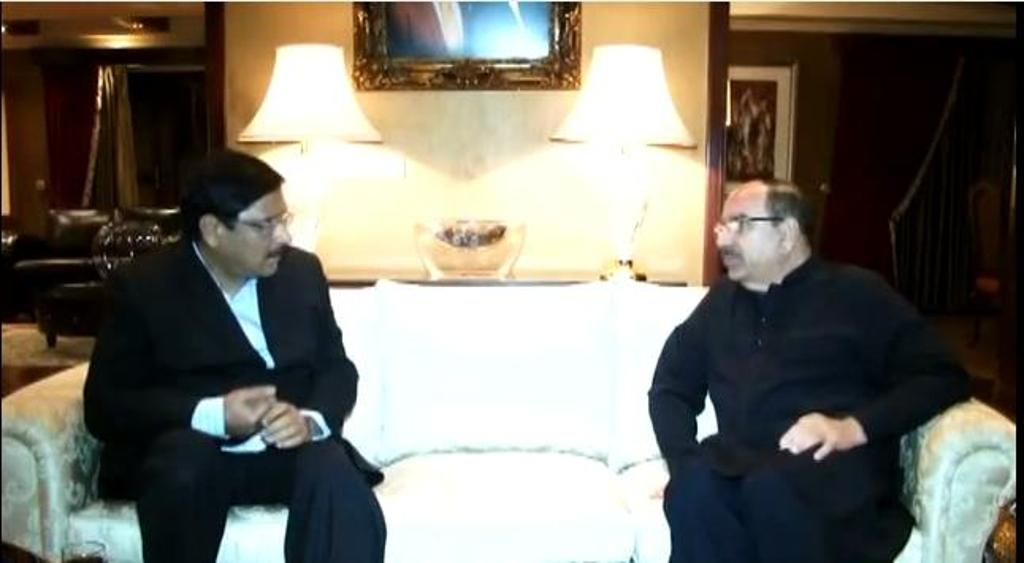face: (226, 180, 290, 282), (710, 184, 782, 274)
